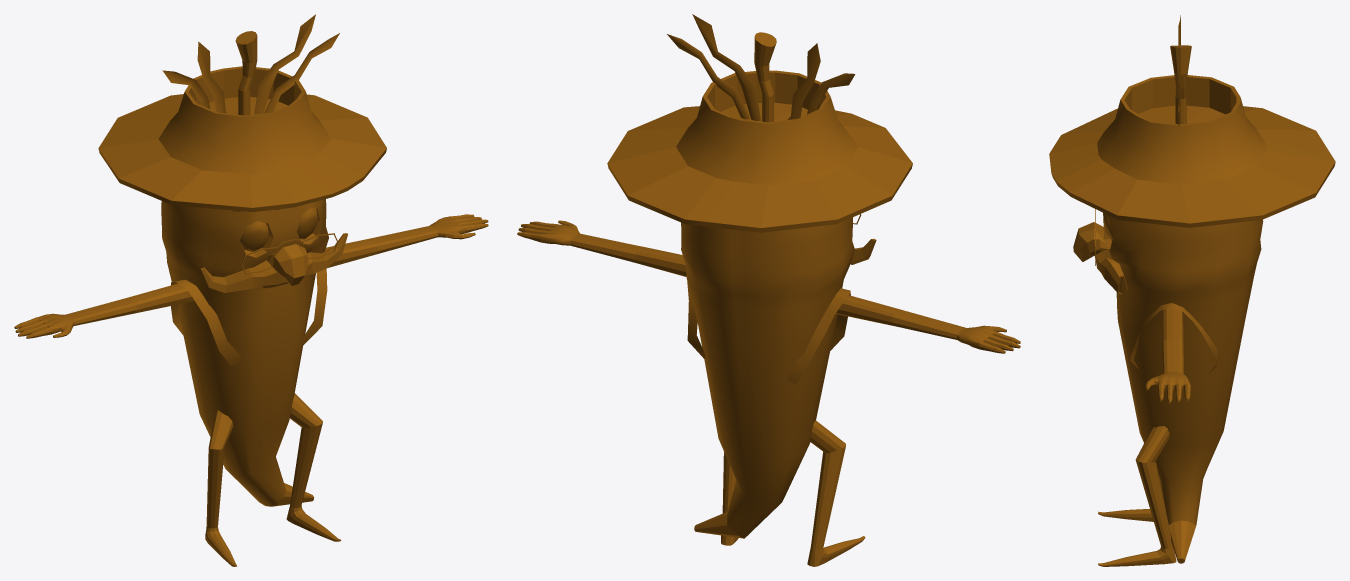
Rendered from EdgarMcCarrot.fbx.
The picture shows the model from 3 angles, left to right: view 1: azimuth 30°, elevation 25°; view 2: azimuth 150°, elevation 25°; view 3: azimuth 270°, elevation 25°; orthographic projection. The views are drawn at different scales.
Parts seen in each view (by area): view 1: EdgarMcCarrotGo; view 2: EdgarMcCarrotGo; view 3: EdgarMcCarrotGo.
Boxes of the visible parts, <box> form: EdgarMcCarrotGo: <box>14,14,488,566</box>; EdgarMcCarrotGo: <box>517,14,1020,566</box>; EdgarMcCarrotGo: <box>1049,15,1335,566</box>.
Bounding box in the file's own units: 155 × 157 × 80.95.
